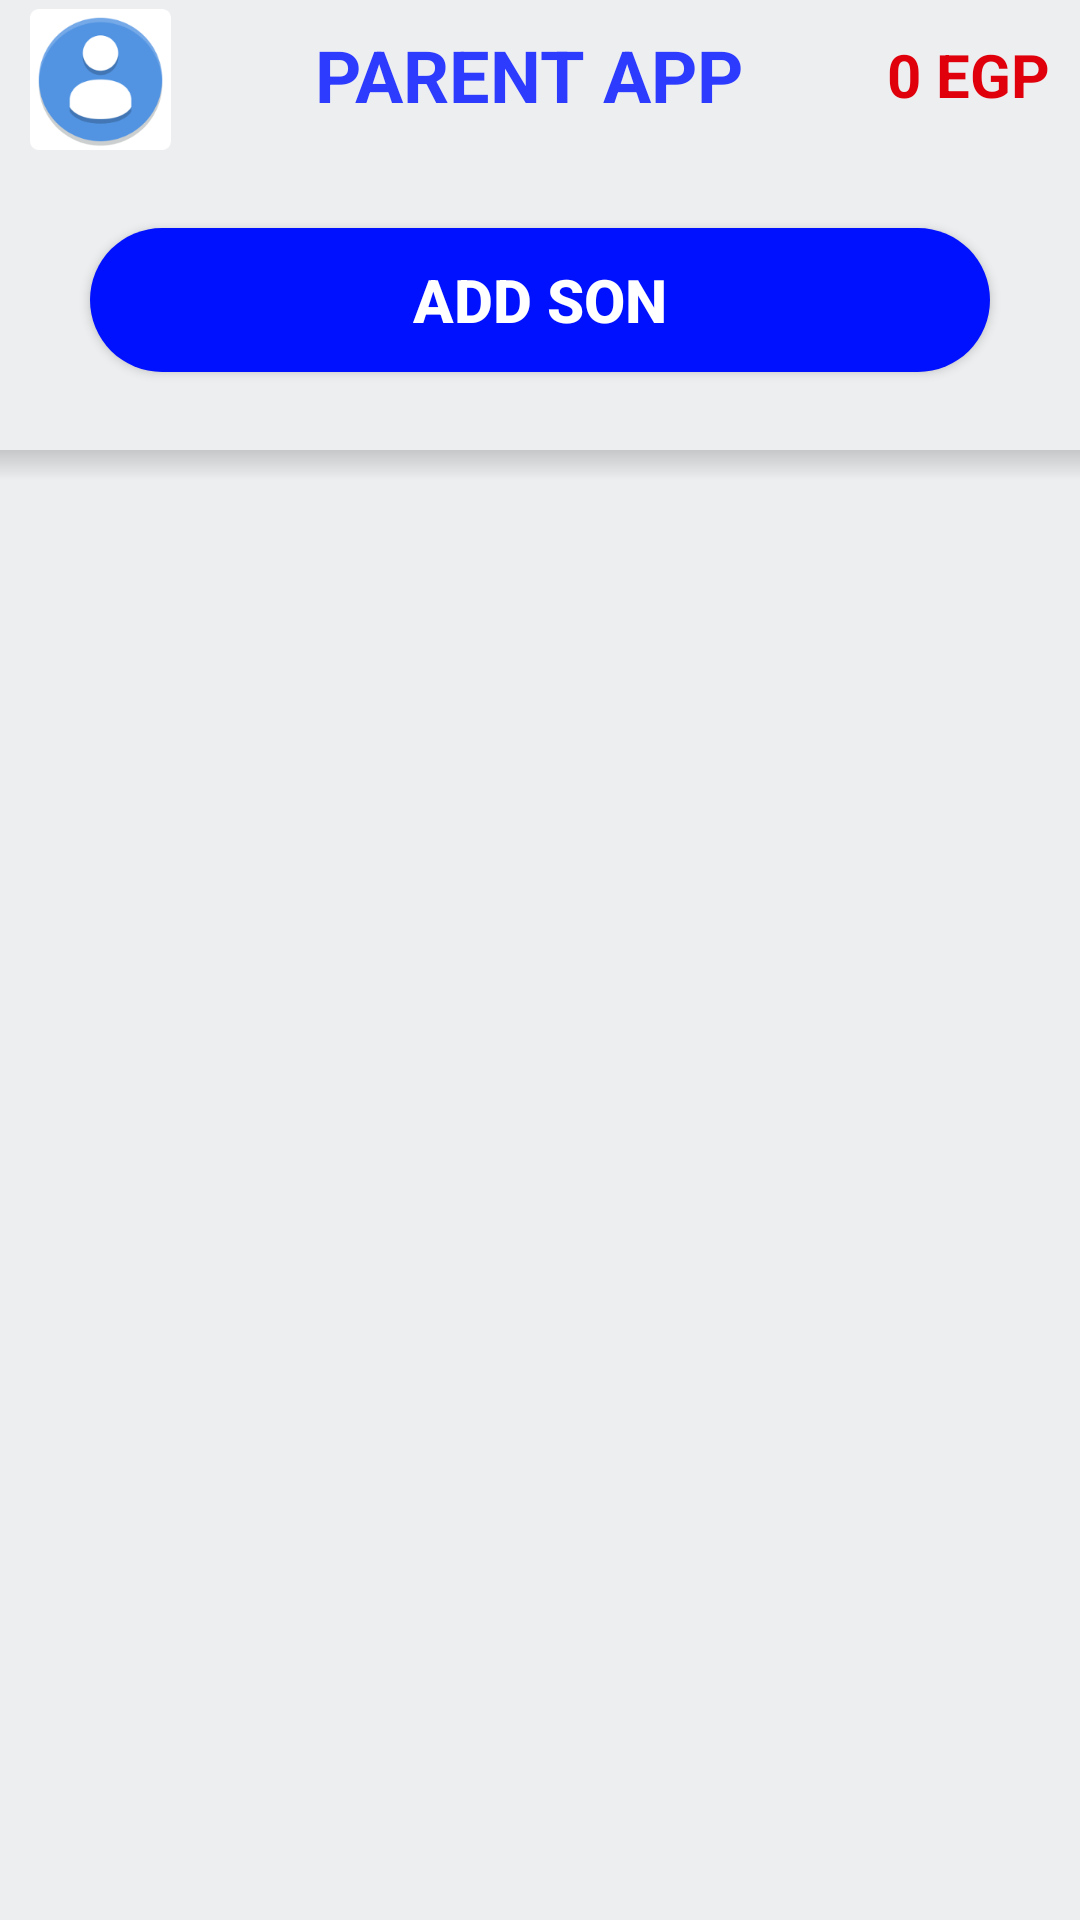

Locate icon controls on the screen. Image size 1080x1920, boxes as (x1, y1, x2, y2).
profile: (39, 18, 163, 145)
